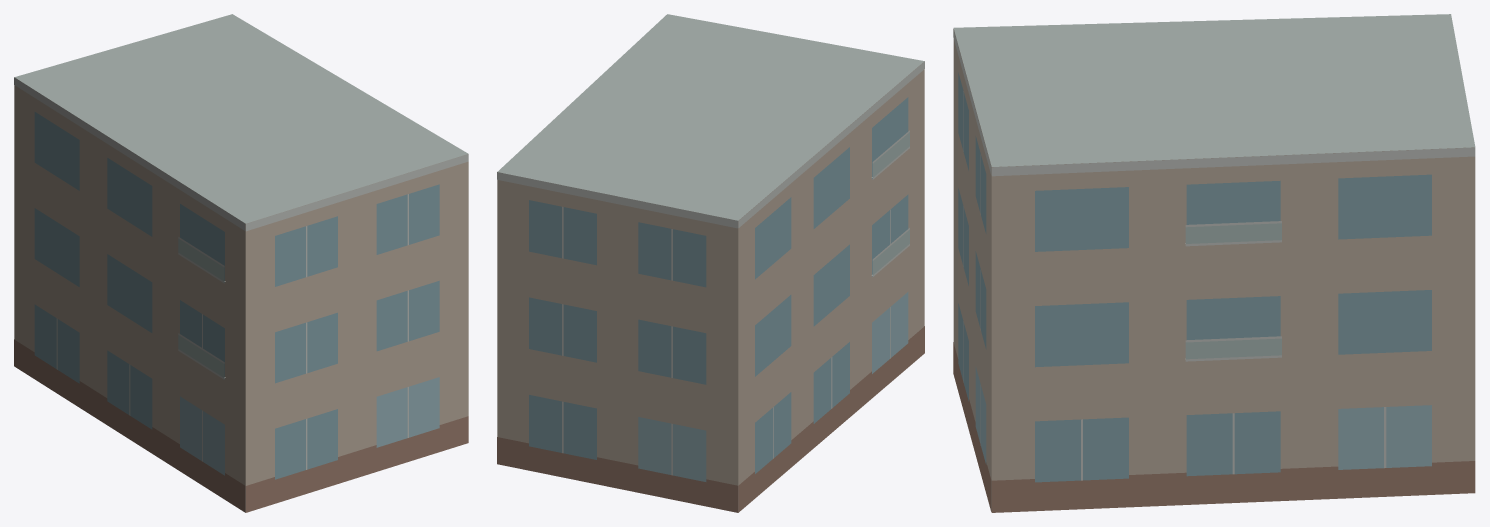
File: survey-upis-32482844.glb
3 renders of one model, left to right at view 1: azimuth 30°, elevation 25°; view 2: azimuth 150°, elevation 25°; view 3: azimuth 270°, elevation 25°, orthographic. The views are drawn at different scales.
Parts seen in each view (by area): view 1: survey-upis-32482844.tmp; view 2: survey-upis-32482844.tmp; view 3: survey-upis-32482844.tmp.
Boxes of the visible parts, bbox=[...] form: survey-upis-32482844.tmp: bbox=[14, 14, 468, 512]; survey-upis-32482844.tmp: bbox=[497, 14, 924, 512]; survey-upis-32482844.tmp: bbox=[953, 14, 1475, 512].
Size of the model in its own units: 8.7 by 9.15 by 12.53.
